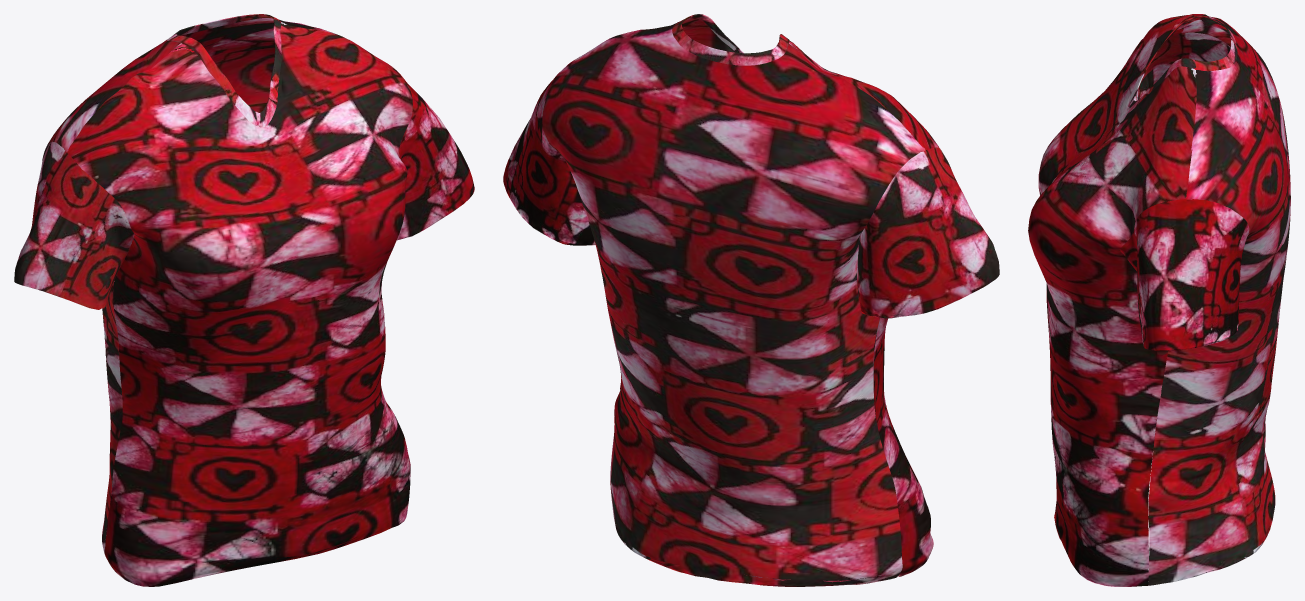
Rendered from v_neck.glb.
The picture shows the model from 3 angles, left to right: view 1: azimuth 30°, elevation 25°; view 2: azimuth 150°, elevation 25°; view 3: azimuth 270°, elevation 25°; orthographic projection. The views are drawn at different scales.
Visible parts, largest first — view 1: all; view 2: all; view 3: all.
Boxes of the visible parts, x1,y1,x2,y2 form: all: (14, 14, 474, 586); all: (503, 14, 999, 586); all: (1028, 14, 1290, 586).
Size of the model in its own units: 0.5781 by 0.5972 by 0.2882.
Materials: 1 (1 with a texture image).
